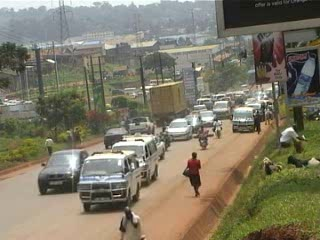Car: (35, 146, 90, 196), (101, 124, 132, 151), (164, 116, 193, 143), (181, 112, 203, 135), (148, 133, 165, 162), (194, 108, 216, 127), (190, 103, 210, 114)
Motorcycle: (192, 124, 212, 150), (155, 125, 171, 152), (211, 116, 226, 140), (224, 103, 236, 121)
